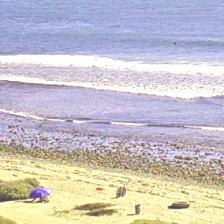surfer: (206, 40, 211, 42), (173, 42, 177, 44)
